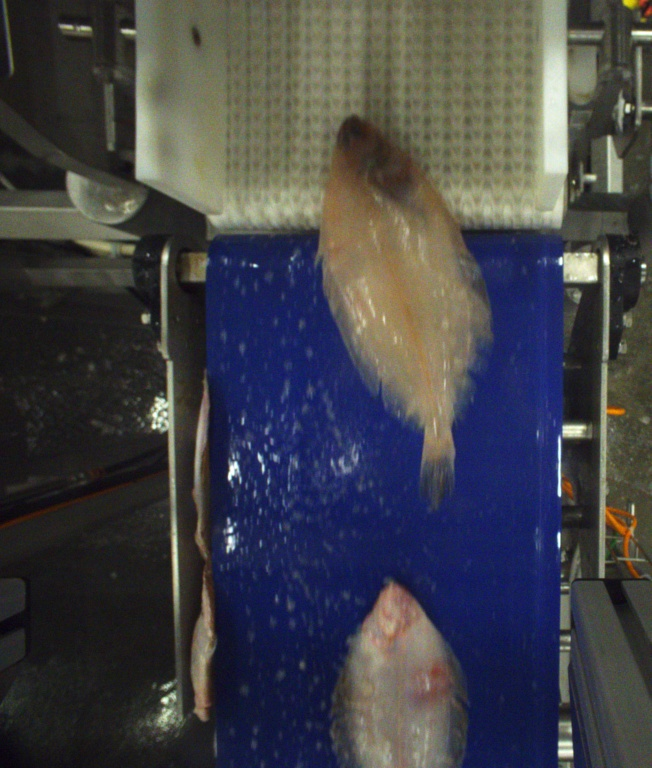WIT: (321, 115, 491, 504)
